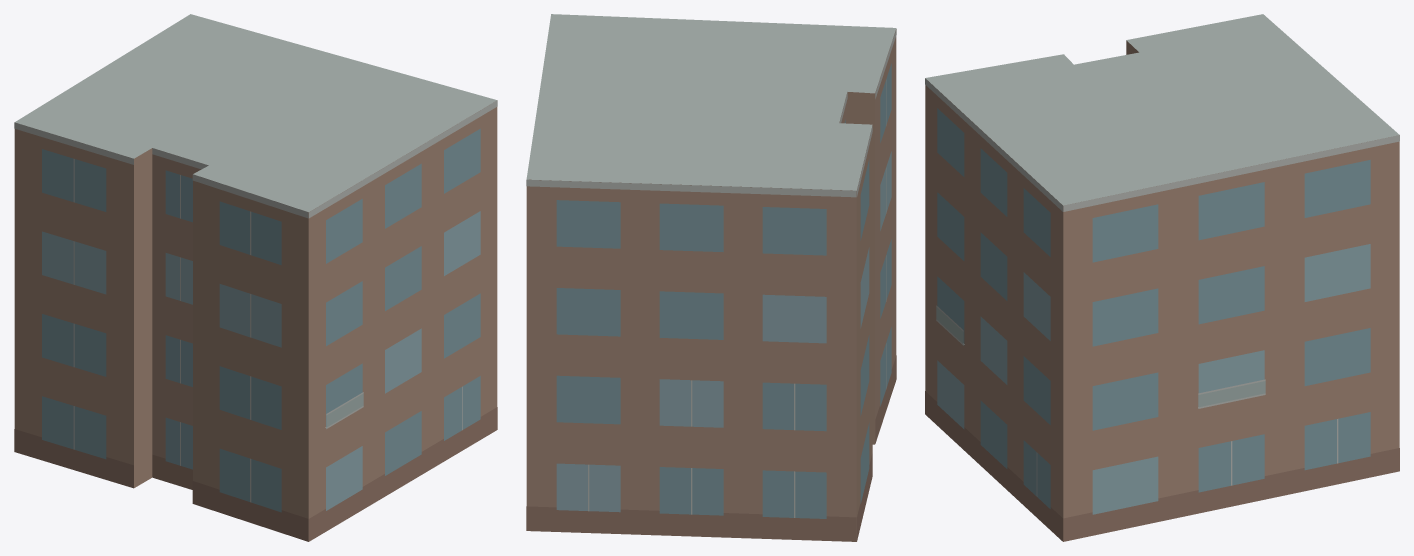
Rendered from survey-upis-32707227.glb.
3 views of the same model, side by side, from view 1: azimuth 30°, elevation 25°; view 2: azimuth 150°, elevation 25°; view 3: azimuth 270°, elevation 25° (orthographic). The views are drawn at different scales.
Visible parts, largest first — view 1: survey-upis-32707227.tmp; view 2: survey-upis-32707227.tmp; view 3: survey-upis-32707227.tmp.
Boxes of the visible parts, x1,y1,x2,y2 form: survey-upis-32707227.tmp: (14,14,497,541); survey-upis-32707227.tmp: (526,14,896,541); survey-upis-32707227.tmp: (925,14,1399,541).
Bounding box in the file's own units: 15.53 × 12.7 × 16.26.
